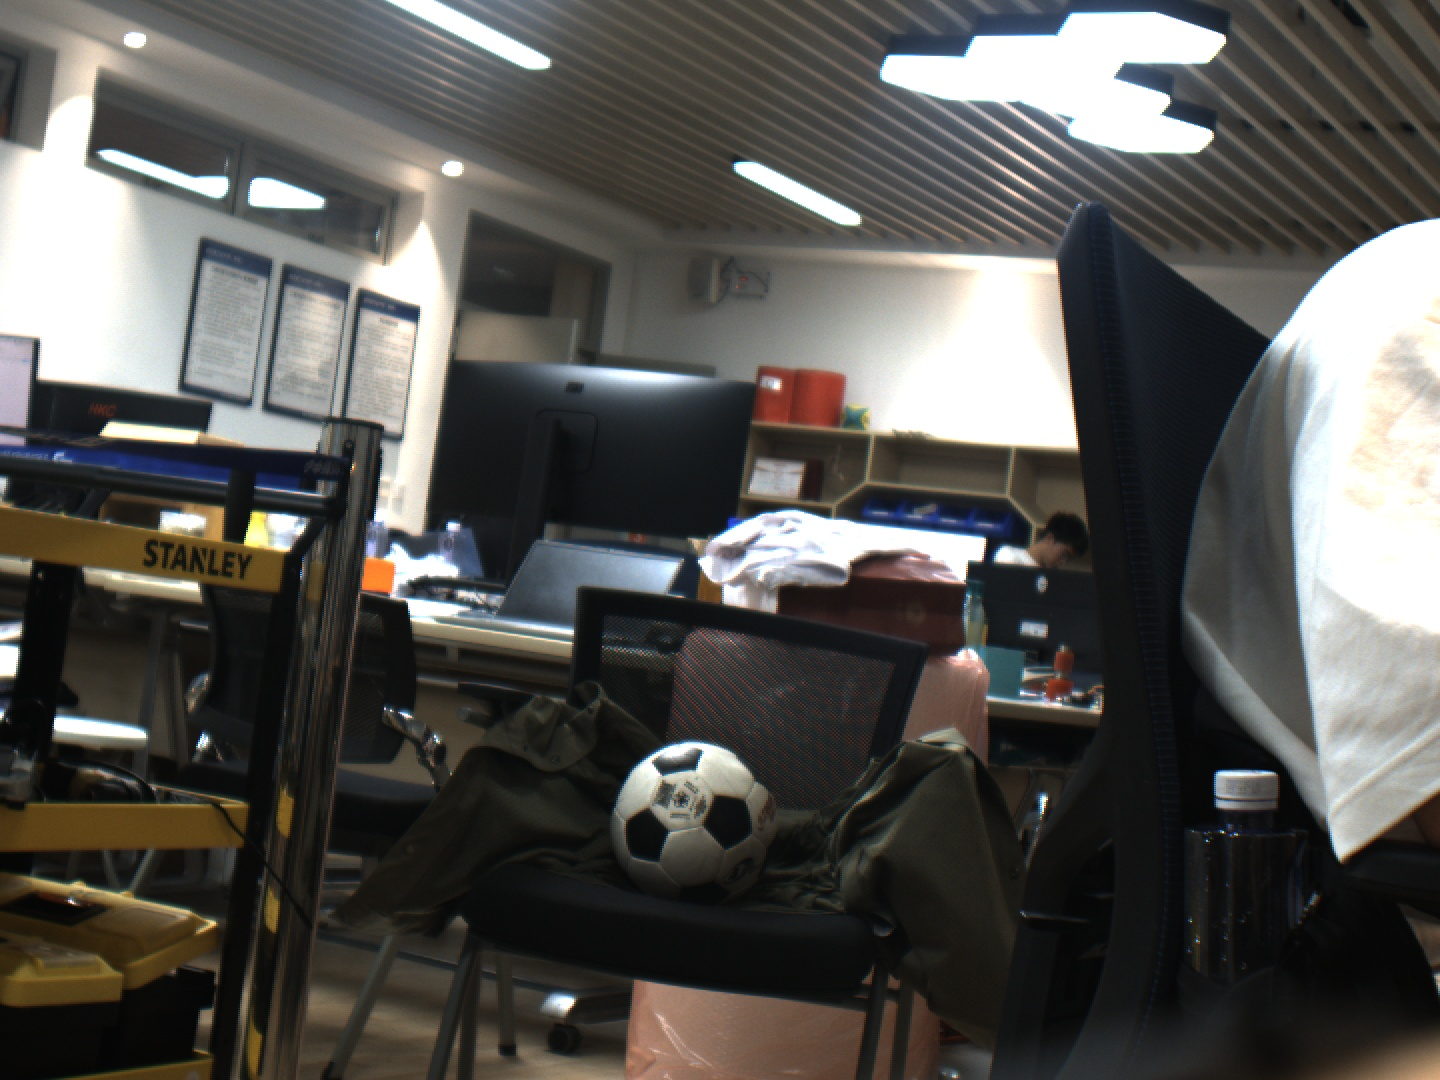ball: (611, 735, 782, 904)
